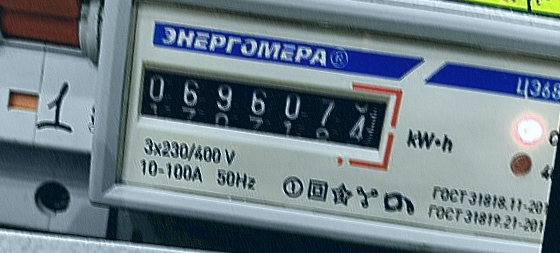0: (144, 70, 167, 102), (279, 89, 302, 119)
4: (345, 111, 367, 141)
6: (178, 76, 200, 106), (247, 84, 268, 115)
7: (313, 94, 337, 127)
9: (212, 81, 234, 112)
screen: (118, 44, 407, 171)
